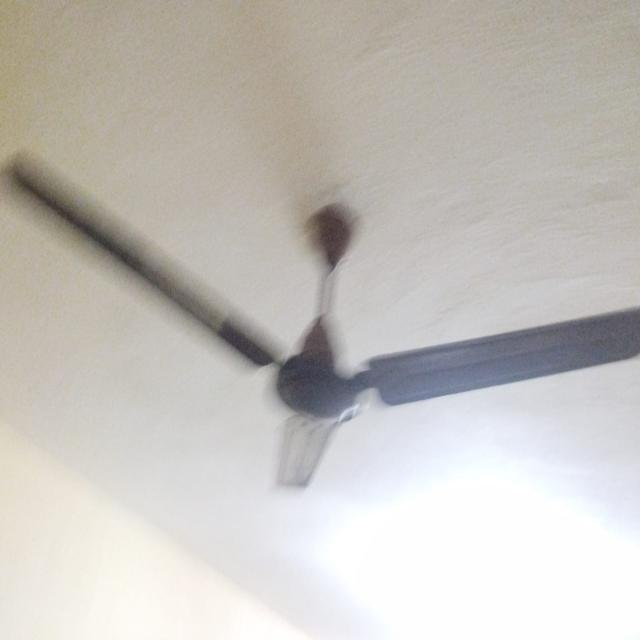fan_off: (10, 155, 640, 488)
